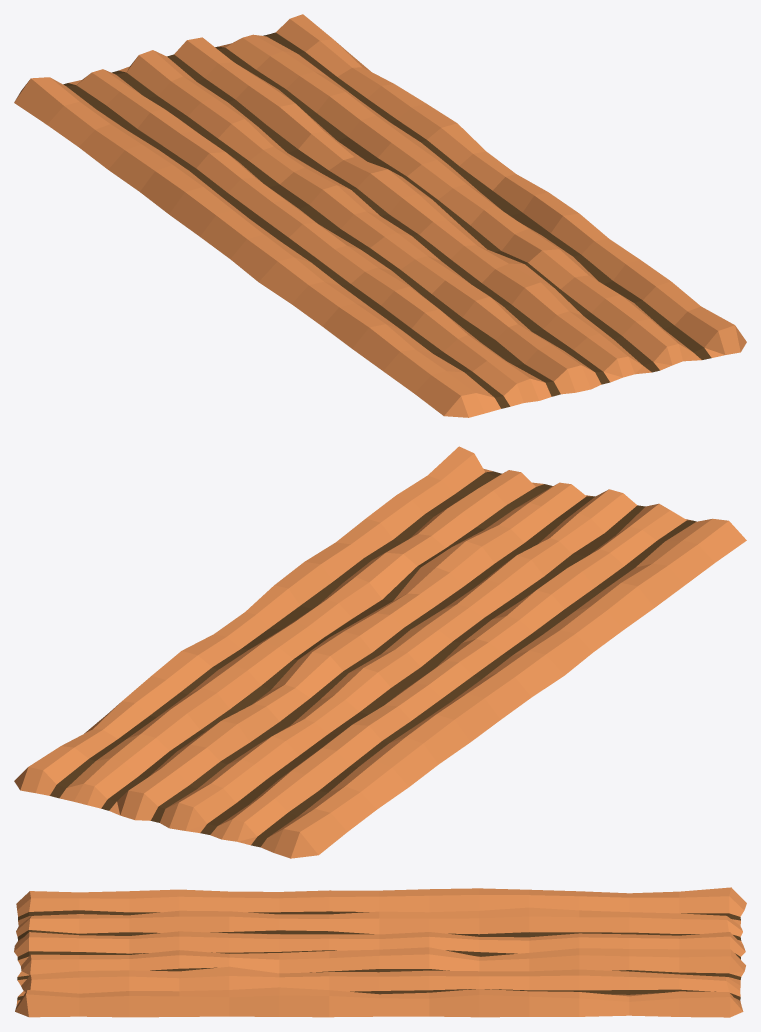
The model's file is Field_M.fbx.
3 views of the same model, one above another, from view 1: azimuth 30°, elevation 25°; view 2: azimuth 150°, elevation 25°; view 3: azimuth 270°, elevation 25° (orthographic). The views are drawn at different scales.
Visible parts, largest first — view 1: Field_M.002; view 2: Field_M.002; view 3: Field_M.002.
Part boxes in pixels (x1,y1,x2,y2): Field_M.002: (14, 14, 746, 417); Field_M.002: (14, 446, 746, 858); Field_M.002: (14, 887, 746, 1017).
Bounding box in the file's own units: 5.25 × 0.3664 × 13.38.
